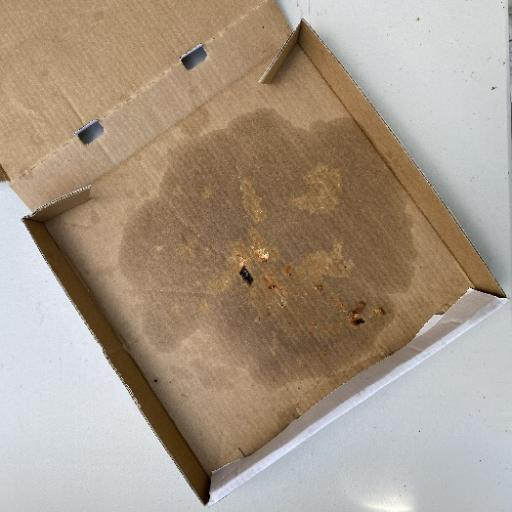Cardboard: (3, 3, 506, 504)
